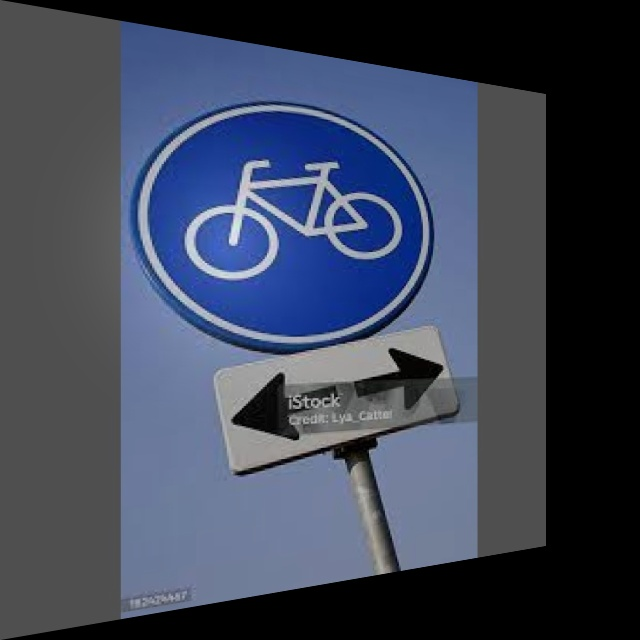Compulsory_Cycle_Track: (138, 82, 437, 321)
